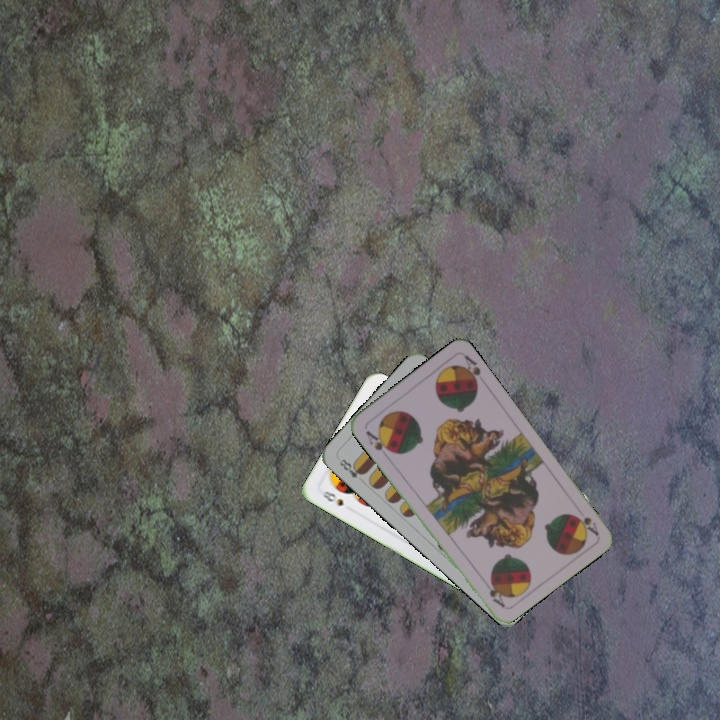E8: (335, 455, 367, 481)
S8: (318, 487, 346, 509)
SA: (362, 426, 395, 455), (570, 510, 601, 538)
